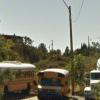Bus: (36, 64, 72, 97)
